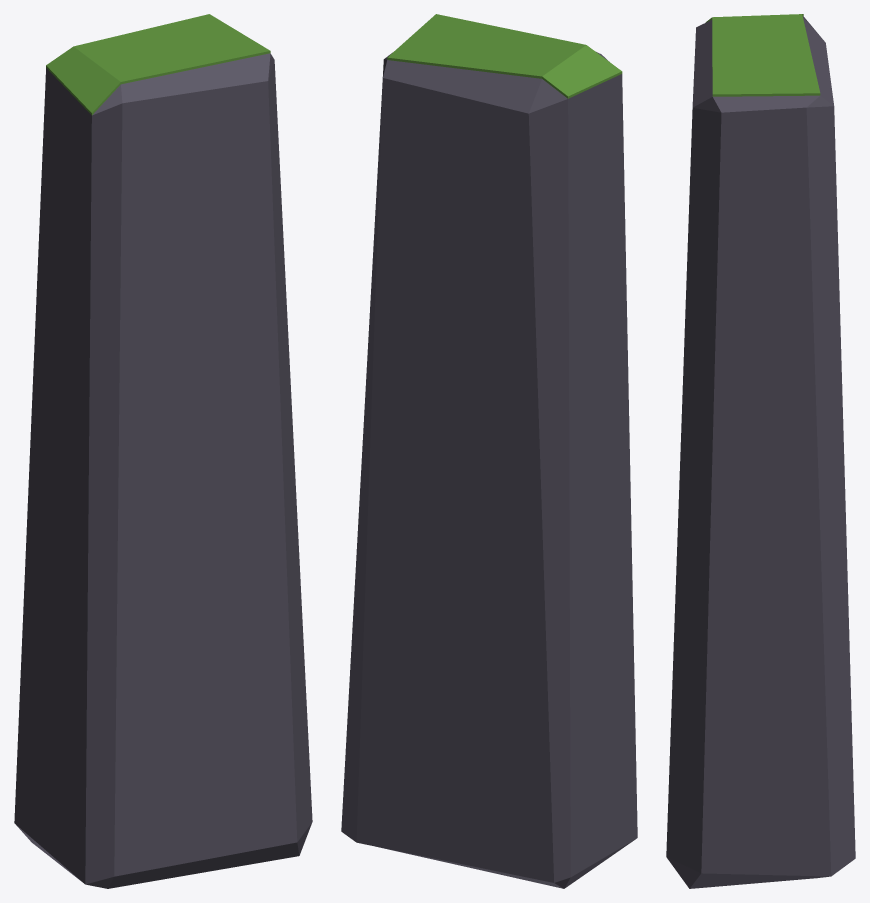
File: BossStone1.fbx
3 views of the same model, side by side, from view 1: azimuth 30°, elevation 25°; view 2: azimuth 150°, elevation 25°; view 3: azimuth 270°, elevation 25° (orthographic). The views are drawn at different scales.
Parts seen in each view (by area): view 1: Stone, Moss; view 2: Stone, Moss; view 3: Stone, Moss.
Part boxes in pixels (x1=…): Stone: x1=14, y1=53, x2=312, y2=888; Moss: x1=46, y1=14, x2=270, y2=115; Stone: x1=341, y1=52, x2=637, y2=888; Moss: x1=387, y1=14, x2=622, y2=98; Stone: x1=666, y1=16, x2=855, y2=888; Moss: x1=705, y1=14, x2=820, y2=96.
Size of the model in its own units: 3.04 by 10.16 by 2.2.
